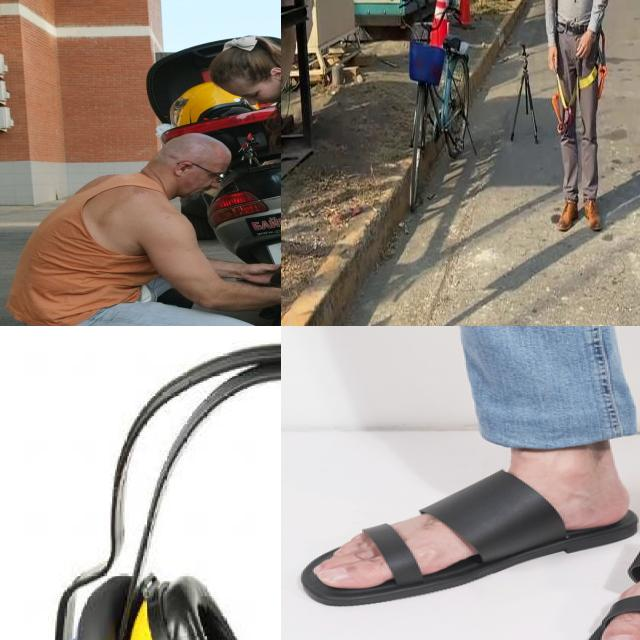Ear-protection: (52, 352, 281, 640), (155, 386, 281, 640)
Harness: (552, 31, 608, 134)
Sandals: (302, 461, 638, 606)
